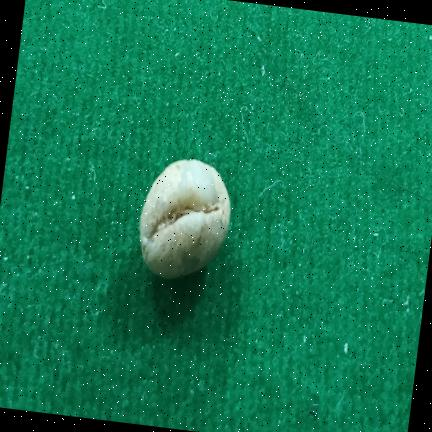good: (139, 159, 230, 278)
